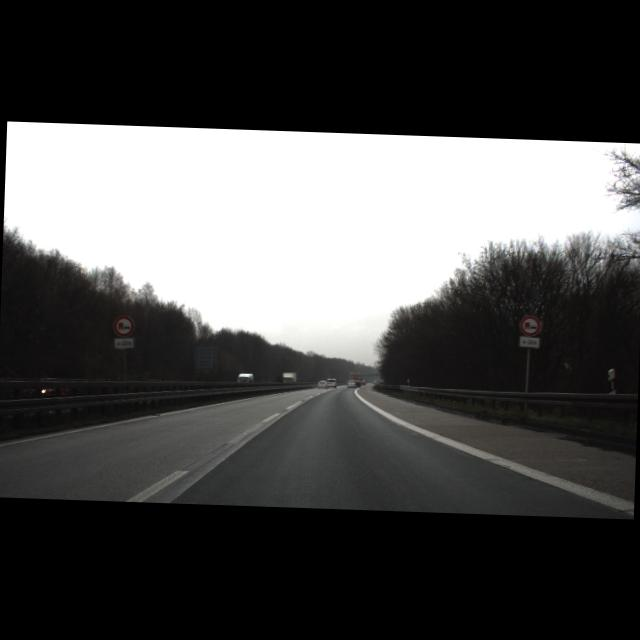prohibitory: (112, 314, 135, 338), (518, 314, 540, 336)
